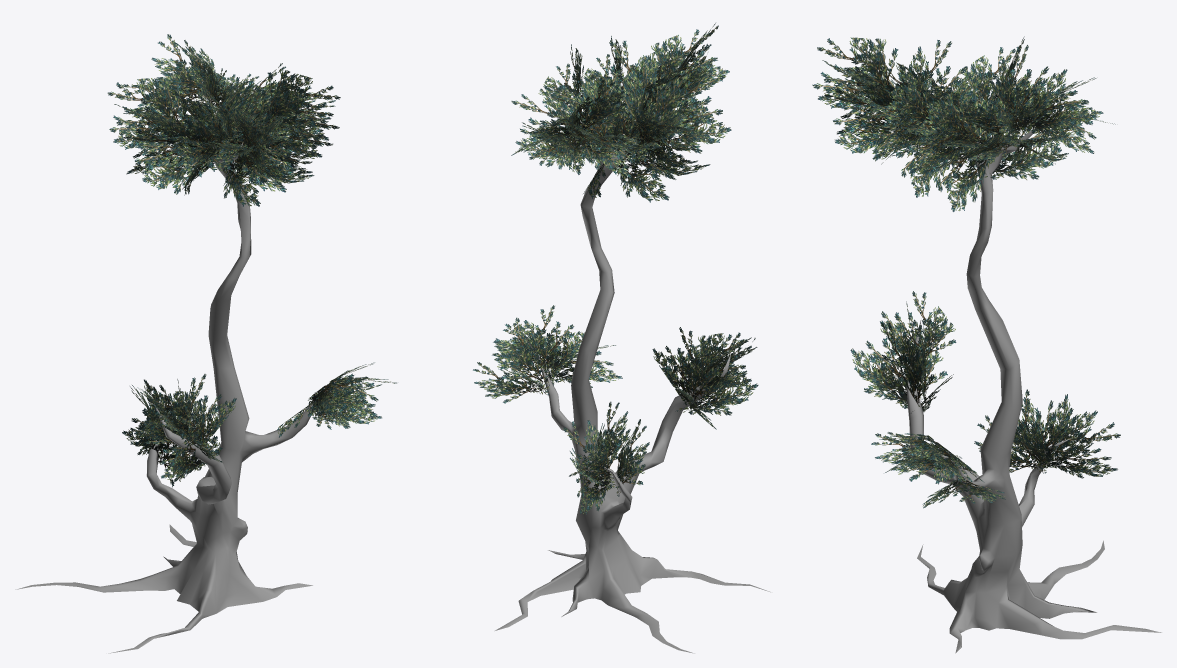
Rendered from ektree_lod1.fbx.
3 views of the same model, side by side, from view 1: azimuth 30°, elevation 25°; view 2: azimuth 150°, elevation 25°; view 3: azimuth 270°, elevation 25° (orthographic). The views are drawn at different scales.
Parts seen in each view (by area): view 1: Default_Layer; view 2: Default_Layer; view 3: Default_Layer.
Part boxes in pixels (box(x1,y1,x2,y2)): Default_Layer: box(15, 34, 396, 653); Default_Layer: box(473, 23, 770, 653); Default_Layer: box(812, 36, 1161, 653).
Size of the model in its own units: 872 by 1469 by 815.
